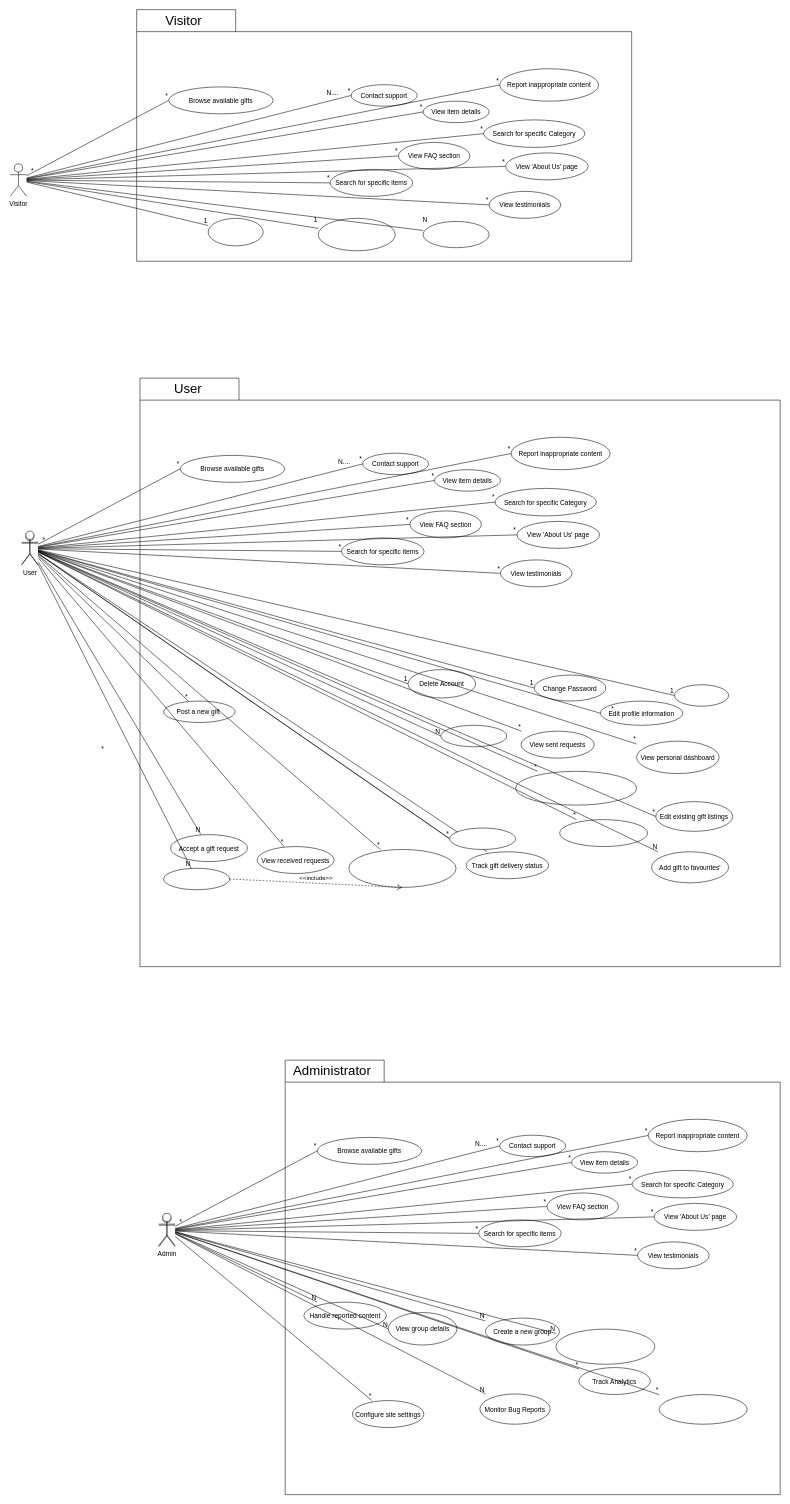
The diagram is 790 pixels wide and 1504 high, and some of its shapes have lost their labels. The shapes that lost their labels are listed below. From the top down, each one's box as (x1, y1, x2, y2) in pixels, then its label:
(208, 218, 263, 246): Log In
(318, 218, 395, 251): Register an account
(423, 221, 489, 248): Forgot Password
(674, 684, 729, 706): Log out
(440, 725, 507, 747): Delete gift listings
(515, 771, 637, 805): Receive messages from other users
(449, 827, 516, 849): View a group
(559, 819, 648, 847): Change privacy settings
(163, 868, 230, 890): Request a gift
(348, 849, 456, 887): Send messages to other users
(555, 1329, 655, 1364): Approve or reject gift listings
(659, 1394, 747, 1424): Manage users accounts
